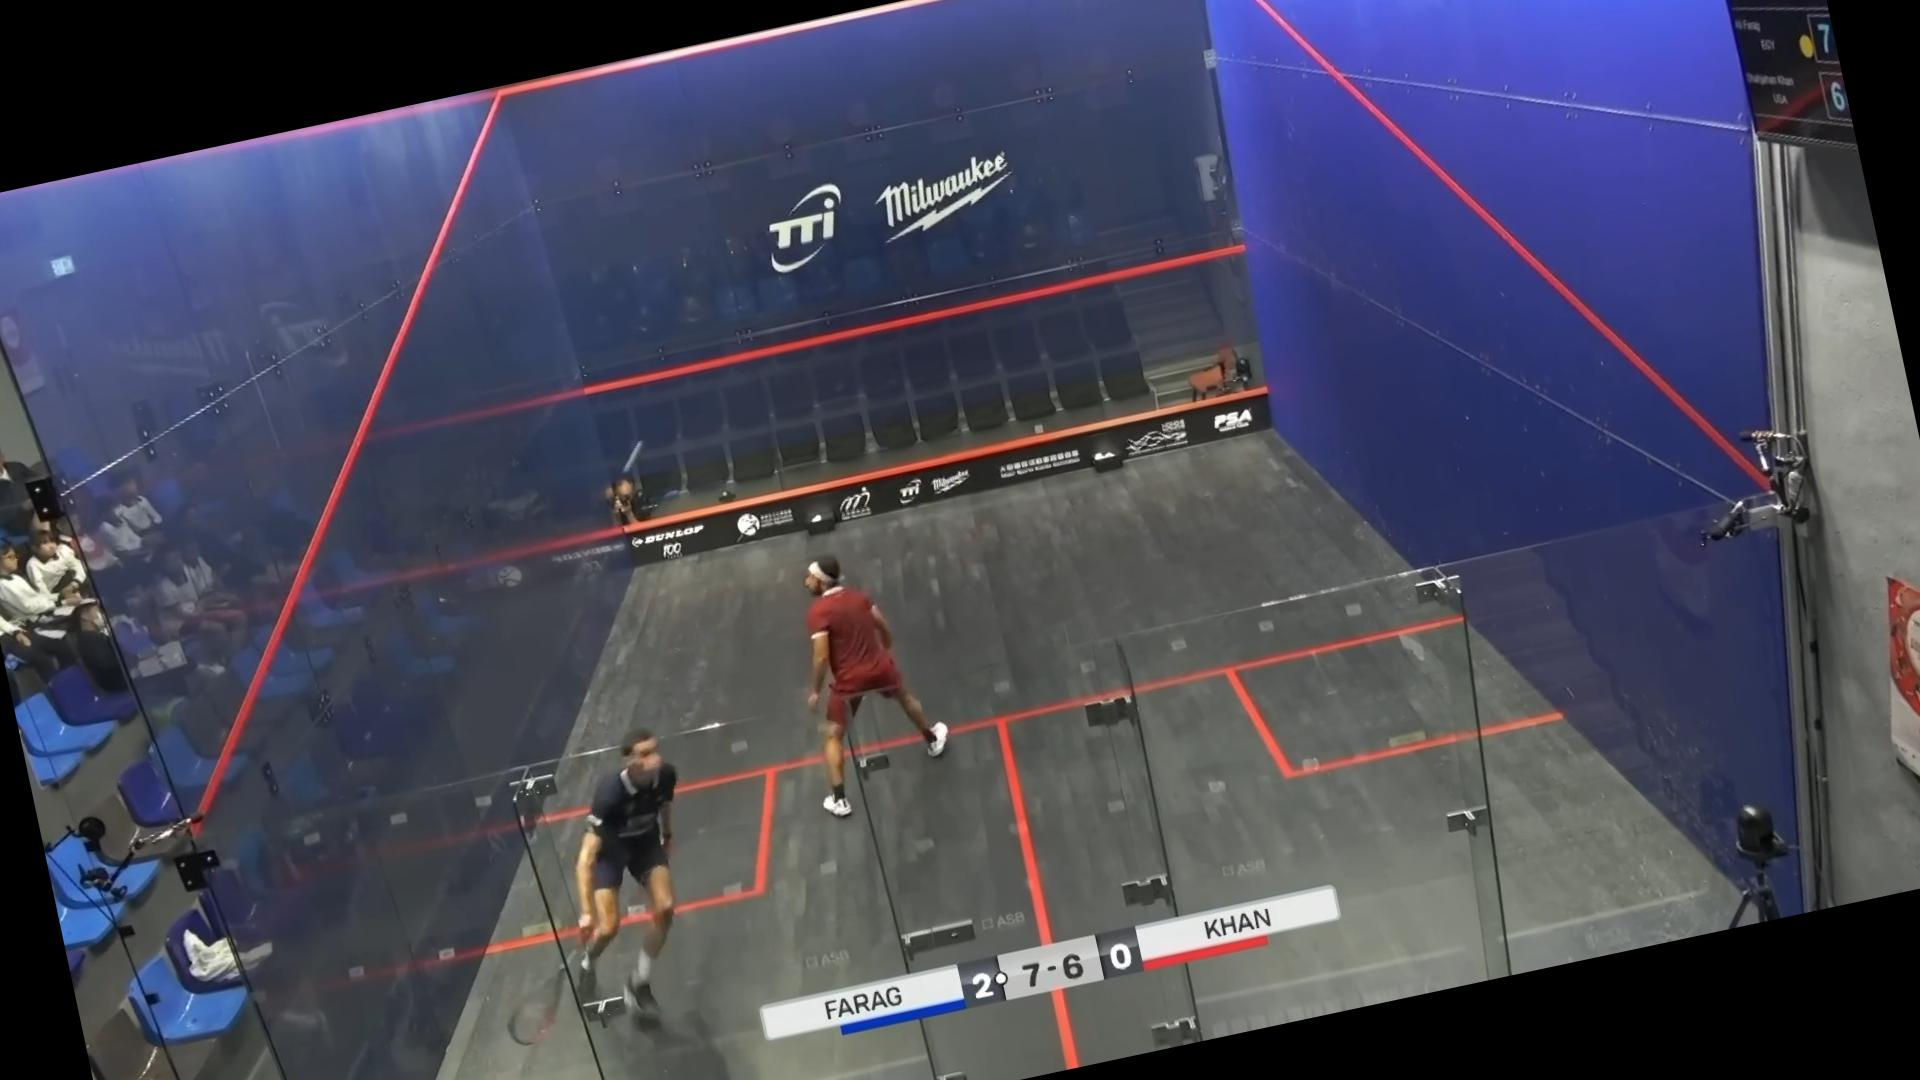Racket: (492, 942, 600, 1054)
